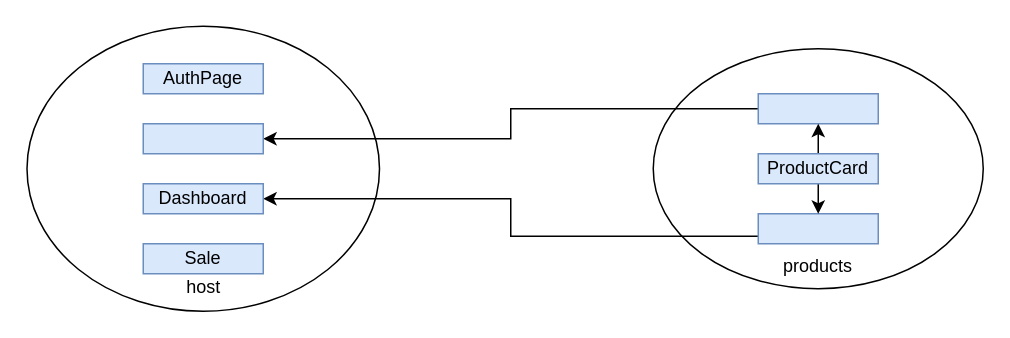
Some shapes in this 1010 by 338 pixel diagram are drawn without their labels. The shapes that lost their labels are listed below. From the top down, each one's centre as x and y in pixels, then its label:
At point 817,108: "MyProducts".
At point 202,138: "MyDashboard".
At point 817,228: "ProductPage".
